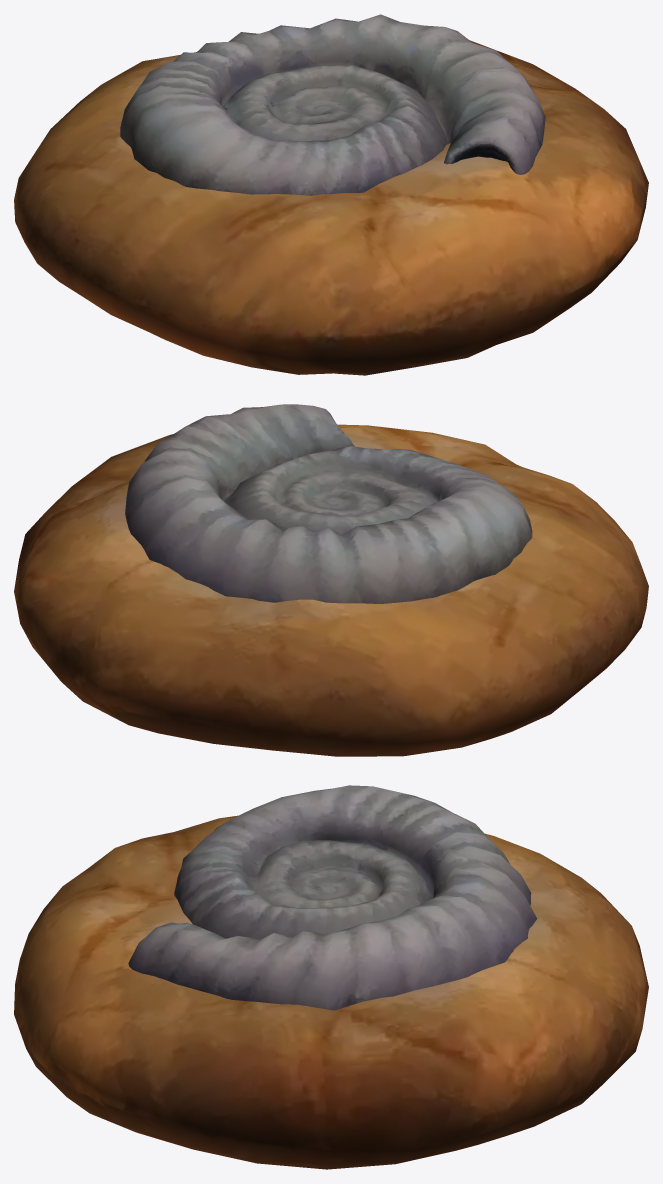
File: ammonite.glb
3 renders of one model, top to bottom at view 1: azimuth 30°, elevation 25°; view 2: azimuth 150°, elevation 25°; view 3: azimuth 270°, elevation 25°, orthographic. The views are drawn at different scales.
Visible parts, largest first — view 1: Ammonite; view 2: Ammonite; view 3: Ammonite.
Boxes of the visible parts, bbox=[...] form: Ammonite: bbox=[14, 14, 648, 375]; Ammonite: bbox=[14, 404, 648, 756]; Ammonite: bbox=[14, 785, 648, 1169].
Size of the model in its own units: 1.7 by 0.6628 by 1.63.
Materials: 1 (1 with a texture image).
